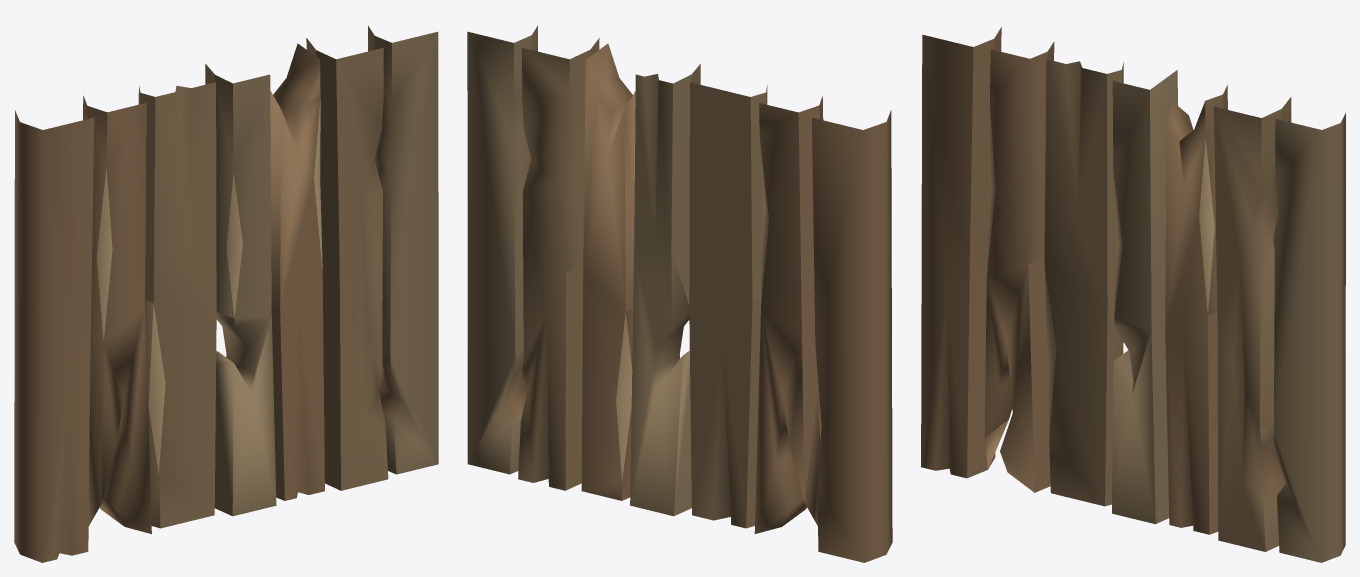
The model's file is rpgpp_av_wall_02_3x3_b.gltf.
3 renders of one model, left to right at view 1: azimuth 30°, elevation 25°; view 2: azimuth 150°, elevation 25°; view 3: azimuth 330°, elevation 25°, orthographic.
Visible parts, largest first — view 1: rpgpp_av_wall_02_3x3_b; view 2: rpgpp_av_wall_02_3x3_b; view 3: rpgpp_av_wall_02_3x3_b.
Boxes of the visible parts, left/top/right/bottom form: rpgpp_av_wall_02_3x3_b: left=14, top=26, right=438, bottom=562; rpgpp_av_wall_02_3x3_b: left=467, top=25, right=892, bottom=562; rpgpp_av_wall_02_3x3_b: left=921, top=27, right=1345, bottom=562.
Bounding box in the file's own units: 0.03 × 0.03 × 0.00378.
1 material, 1 textured.
